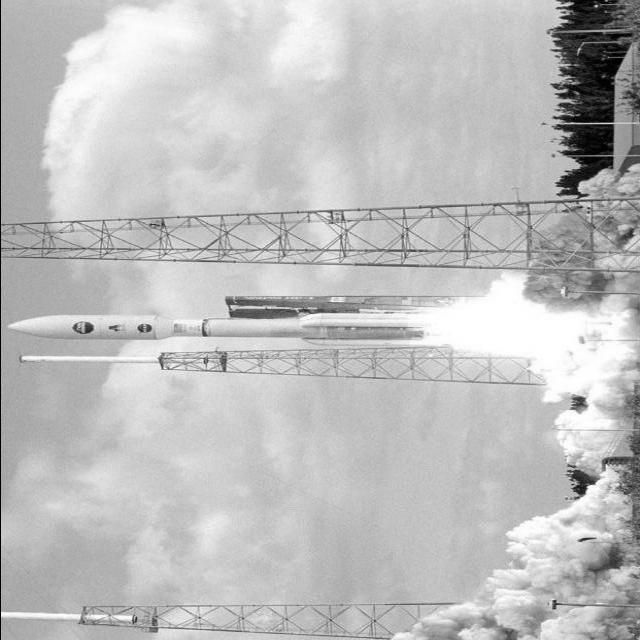Missile: (5, 306, 434, 343), (0, 610, 139, 627), (13, 353, 162, 365)
